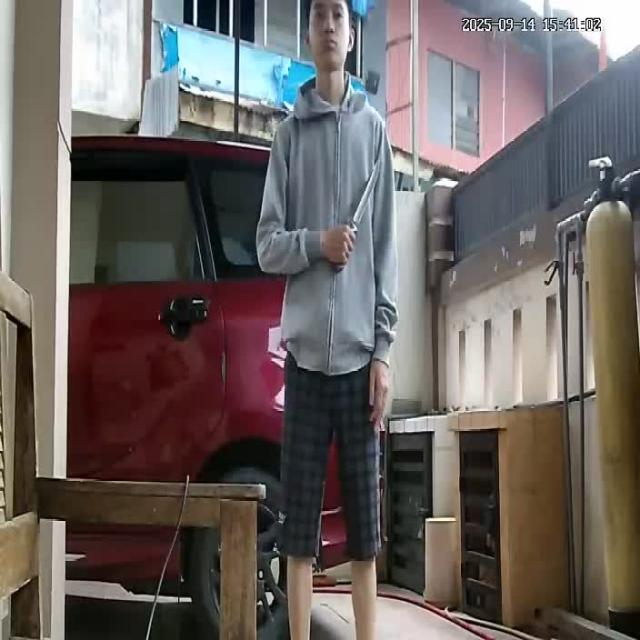senjata_tajam: (346, 156, 384, 232)
